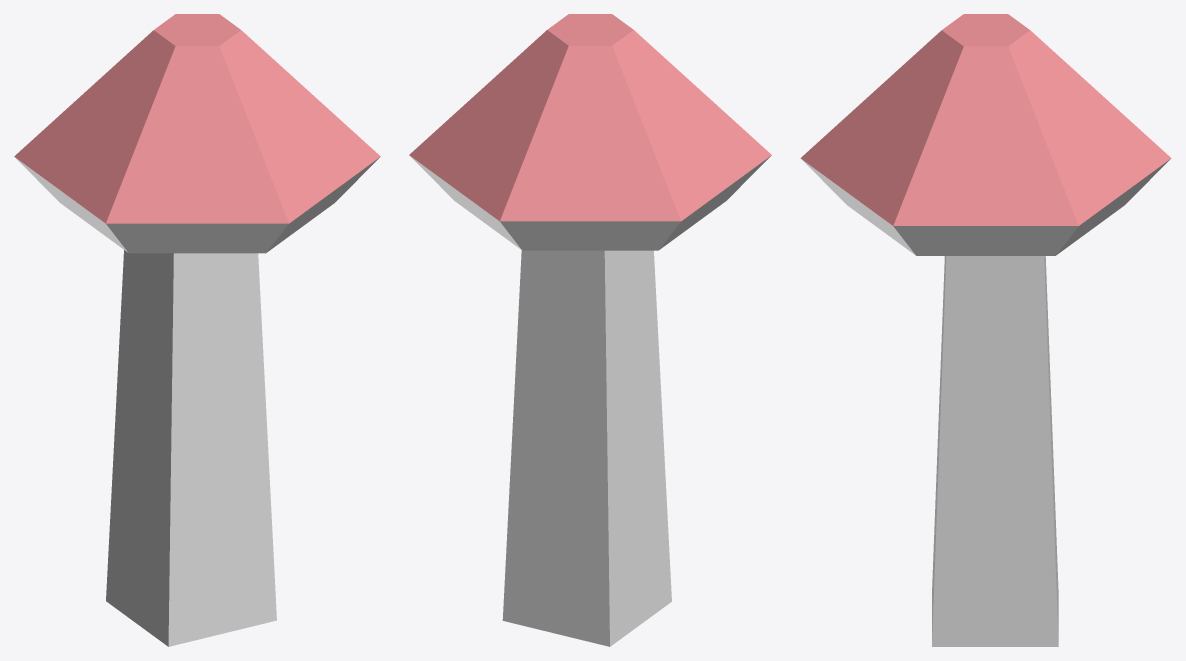
Rendered from mushroom_redTall.glb.
The picture shows the model from 3 angles, left to right: view 1: azimuth 30°, elevation 25°; view 2: azimuth 150°, elevation 25°; view 3: azimuth 270°, elevation 25°; orthographic projection. The views are drawn at different scales.
Parts seen in each view (by area): view 1: mushroom_redTall; view 2: mushroom_redTall; view 3: mushroom_redTall.
Boxes of the visible parts, box(x1,y1,x2,y2) form: mushroom_redTall: box(14, 14, 380, 646); mushroom_redTall: box(409, 14, 771, 646); mushroom_redTall: box(800, 14, 1171, 646).
Bounding box in the file's own units: 0.1235 × 0.2505 × 0.1426.
